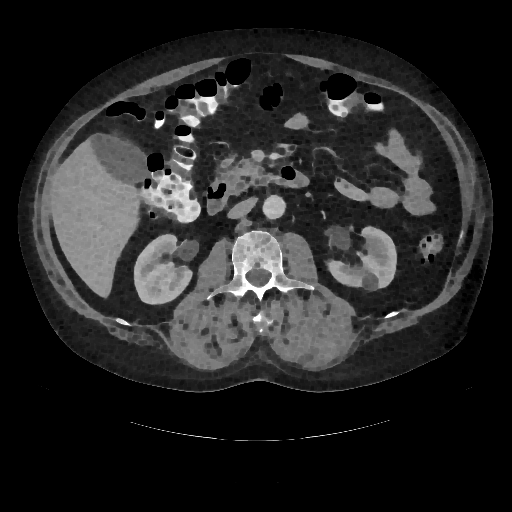Lesion: (358, 269, 381, 291)
